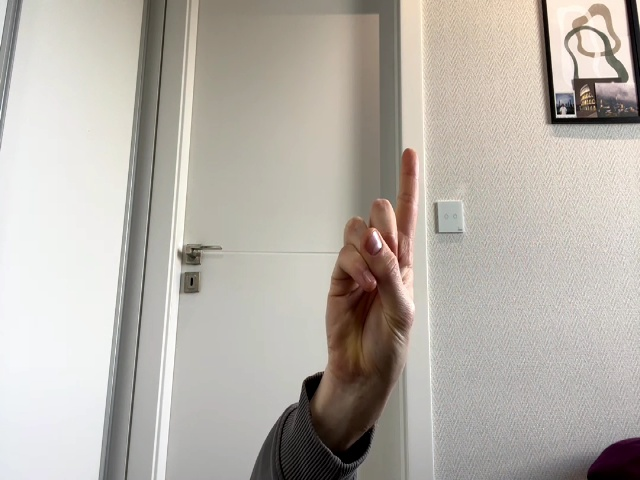Z: (326, 148, 418, 385)
